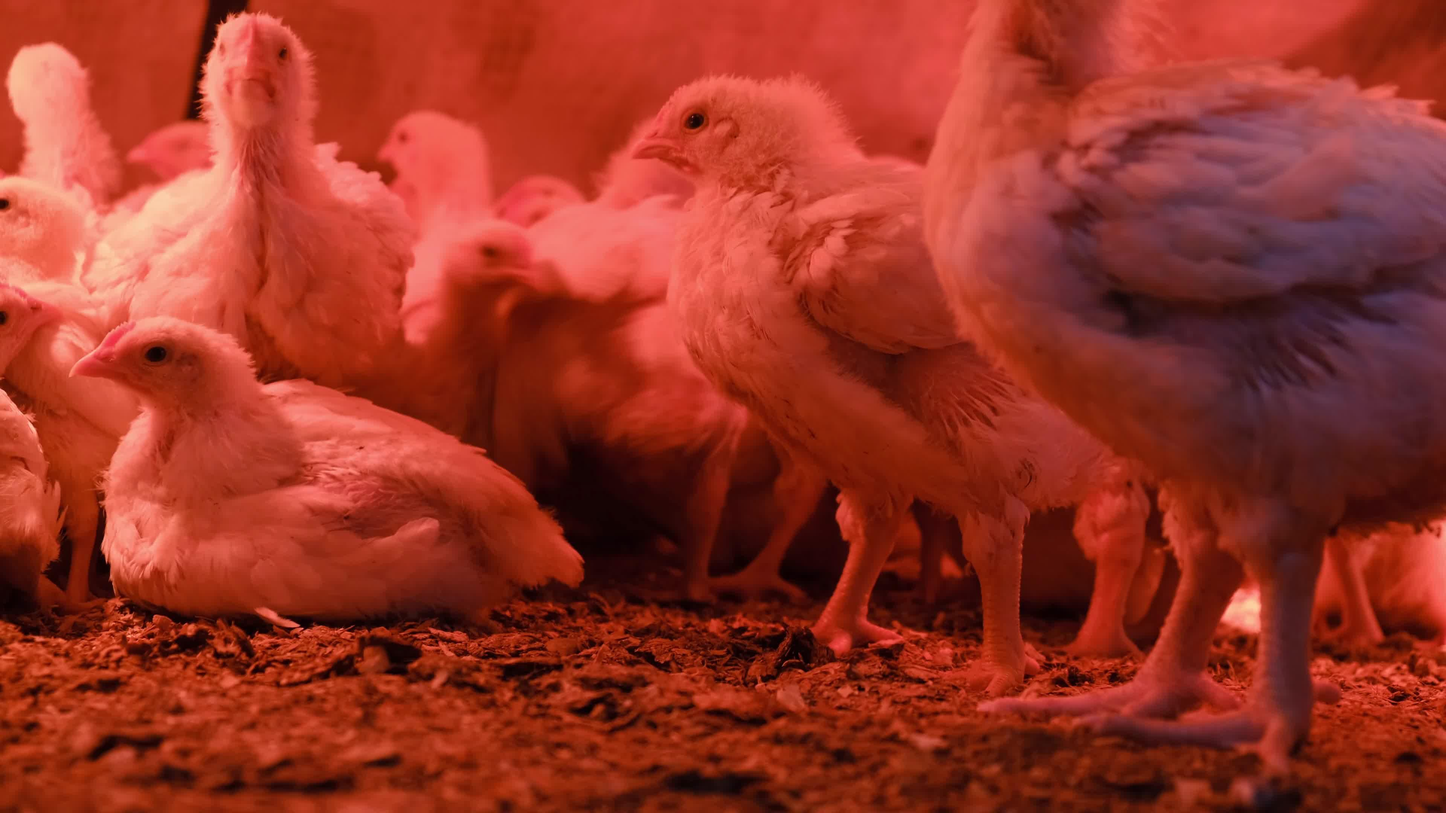AbNormal: (83, 301, 587, 619), (0, 265, 105, 619)
Normal: (930, 0, 1446, 783), (610, 81, 1081, 689), (137, 0, 380, 335), (378, 205, 629, 437), (343, 109, 522, 326), (486, 151, 670, 316), (8, 28, 139, 199), (115, 98, 241, 235), (0, 171, 105, 286)
